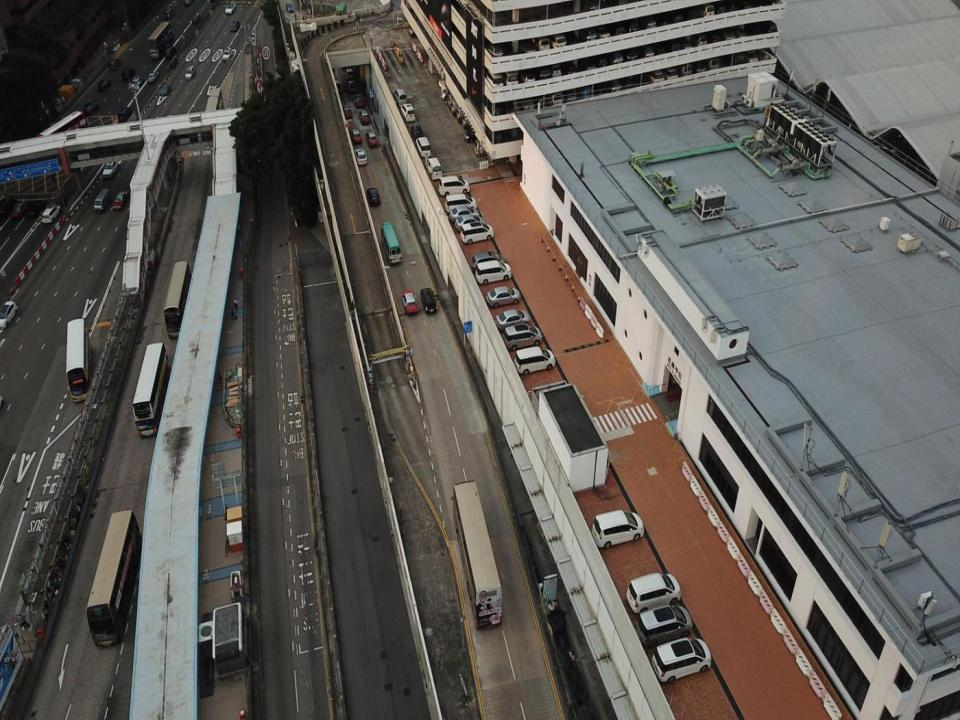bus: (450, 479, 504, 628), (85, 509, 143, 647), (132, 342, 177, 437), (164, 260, 194, 339), (66, 318, 92, 402), (148, 20, 174, 59), (203, 89, 224, 137), (380, 221, 403, 263), (335, 1, 347, 22)
car: (495, 309, 530, 332), (486, 286, 521, 308), (653, 60, 679, 84), (648, 7, 670, 32), (455, 213, 485, 231), (409, 18, 435, 38), (0, 301, 18, 329), (438, 68, 466, 86), (400, 289, 419, 315), (449, 206, 479, 222), (464, 125, 490, 143), (639, 68, 665, 86), (726, 21, 747, 43), (716, 26, 737, 46), (673, 34, 692, 56), (690, 54, 706, 80), (441, 84, 465, 101), (26, 199, 46, 218), (703, 28, 722, 48), (102, 157, 119, 178), (516, 41, 536, 58), (10, 201, 29, 217), (42, 206, 61, 222), (112, 190, 128, 209), (562, 31, 578, 50), (650, 42, 666, 59), (580, 1, 599, 15), (367, 188, 380, 207), (410, 124, 424, 140), (83, 102, 100, 115), (349, 127, 362, 143), (365, 132, 378, 148), (354, 148, 367, 164), (353, 93, 364, 108), (359, 109, 369, 124), (132, 76, 144, 88), (342, 105, 352, 119), (185, 66, 195, 79), (344, 66, 353, 80), (346, 78, 355, 92), (333, 80, 342, 94), (148, 72, 159, 83), (160, 84, 171, 95), (302, 15, 314, 25), (230, 20, 240, 32), (223, 48, 232, 60), (225, 3, 234, 14), (286, 3, 294, 13), (184, 0, 190, 6)
van: (652, 637, 711, 682), (635, 605, 693, 647), (626, 572, 681, 613), (591, 510, 644, 548), (514, 346, 556, 376), (502, 323, 542, 350), (474, 260, 512, 285), (460, 221, 494, 245), (472, 250, 507, 272), (439, 176, 470, 198), (444, 193, 476, 214), (536, 85, 564, 108), (615, 14, 638, 41), (496, 63, 518, 91), (614, 44, 638, 68), (456, 102, 482, 124), (462, 110, 490, 130), (456, 104, 484, 124), (529, 88, 551, 113), (635, 11, 656, 37), (598, 22, 624, 42), (688, 0, 714, 20), (474, 135, 497, 157), (512, 94, 535, 116), (571, 83, 595, 104), (598, 74, 622, 95), (602, 50, 624, 72), (685, 29, 707, 51), (530, 33, 551, 56), (611, 74, 634, 95), (662, 34, 680, 60), (482, 70, 503, 92), (576, 26, 597, 48), (529, 63, 551, 84), (587, 54, 608, 76), (544, 31, 567, 51), (673, 56, 692, 80), (448, 91, 473, 109), (554, 87, 575, 108), (575, 57, 596, 78), (664, 8, 684, 30), (698, 55, 720, 75), (724, 46, 744, 68), (588, 25, 611, 44), (486, 125, 504, 149), (678, 2, 698, 23), (483, 100, 502, 122), (557, 60, 576, 82), (94, 188, 110, 214), (420, 288, 436, 313), (708, 1, 727, 22), (540, 61, 561, 80), (633, 45, 654, 64), (748, 47, 768, 66), (426, 156, 442, 179), (484, 43, 503, 62), (740, 46, 758, 66), (758, 20, 777, 38), (400, 102, 416, 122), (416, 135, 430, 157), (0, 197, 16, 216), (519, 70, 536, 87), (394, 88, 408, 108), (118, 107, 132, 122), (97, 78, 111, 92), (108, 58, 121, 70), (122, 67, 134, 80), (164, 8, 175, 19), (194, 16, 200, 24)
